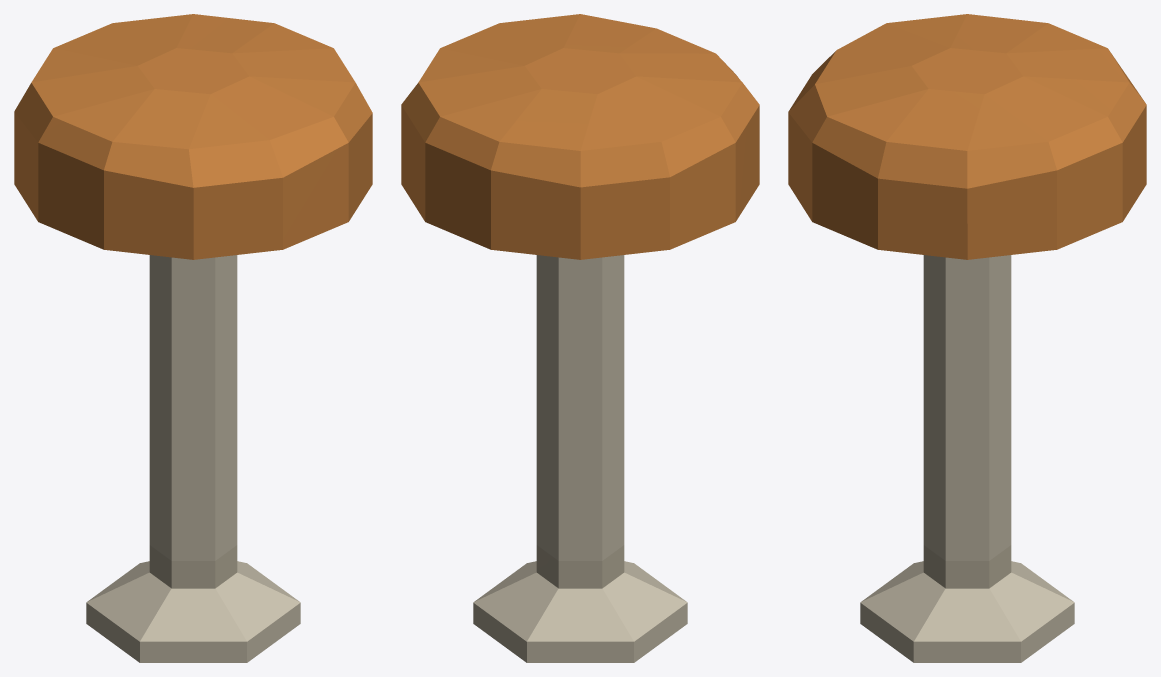
The model's file is SM_Prop_Bar_Stool_03.fbx.
3 views of the same model, side by side, from view 1: azimuth 30°, elevation 25°; view 2: azimuth 150°, elevation 25°; view 3: azimuth 270°, elevation 25° (orthographic).
Parts seen in each view (by area): view 1: SM_Prop_Bar_Stool_01; view 2: SM_Prop_Bar_Stool_01; view 3: SM_Prop_Bar_Stool_01.
Part boxes in pixels (x1,y1,x2,y2): SM_Prop_Bar_Stool_01: (14, 14, 372, 662); SM_Prop_Bar_Stool_01: (401, 14, 759, 662); SM_Prop_Bar_Stool_01: (788, 14, 1146, 662).
Size of the model in its own units: 35.73 by 60.76 by 35.73.
